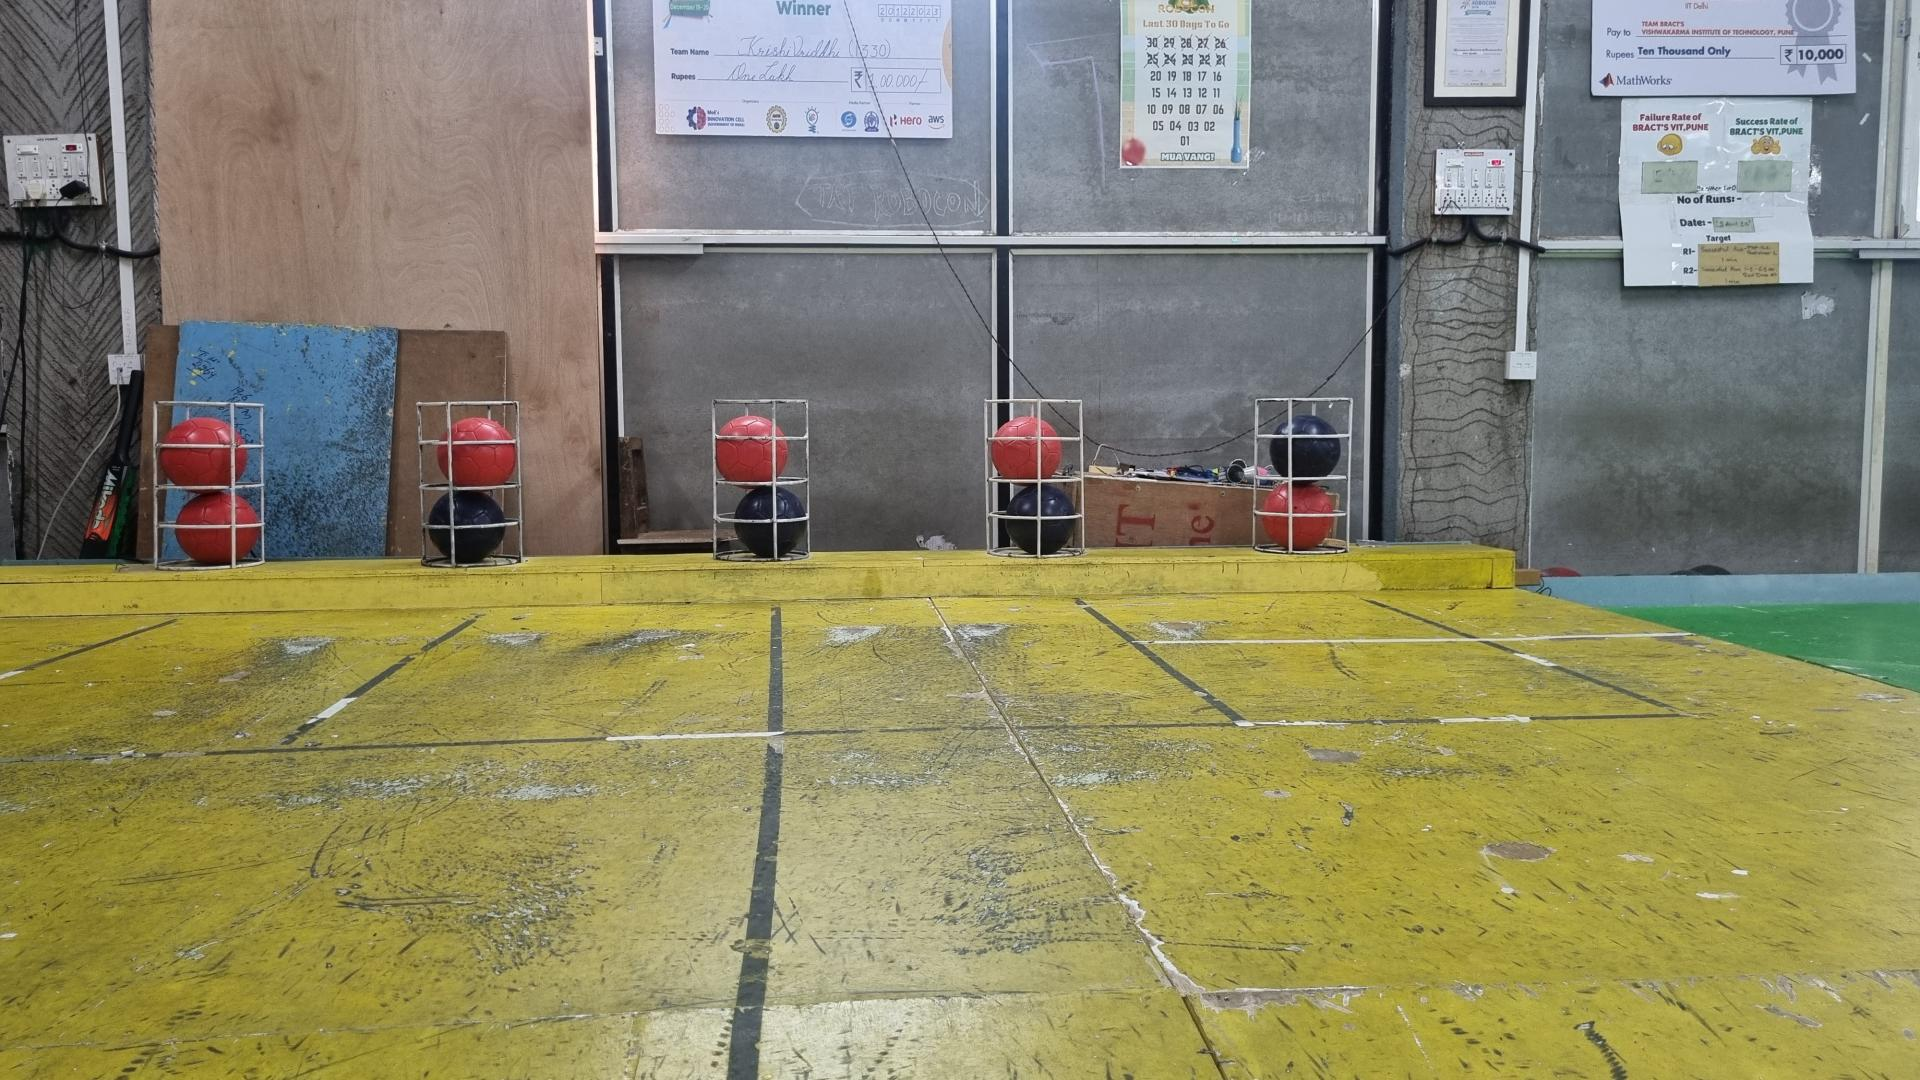dhoka: (427, 491, 506, 562), (735, 487, 806, 558), (1005, 484, 1076, 555), (1267, 415, 1342, 480)
laale: (161, 415, 248, 487), (177, 491, 258, 566), (439, 415, 517, 487), (1261, 484, 1335, 551), (716, 415, 787, 484), (990, 415, 1062, 480)
